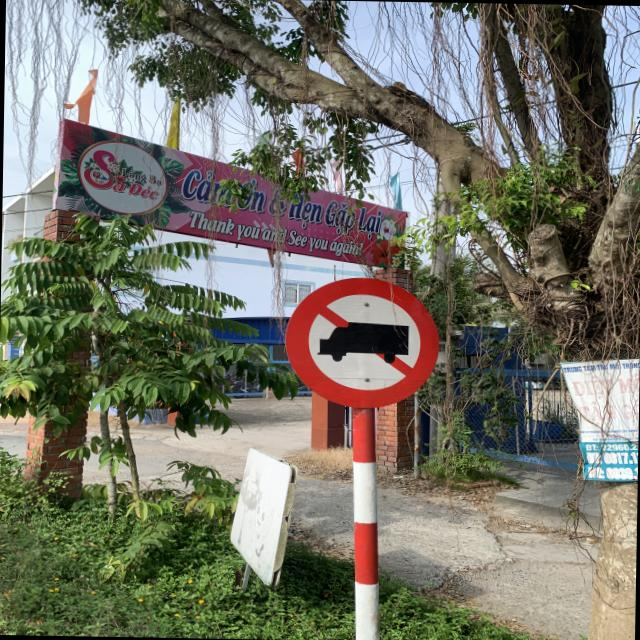Cam_Xe_Tai: (284, 273, 439, 410)
